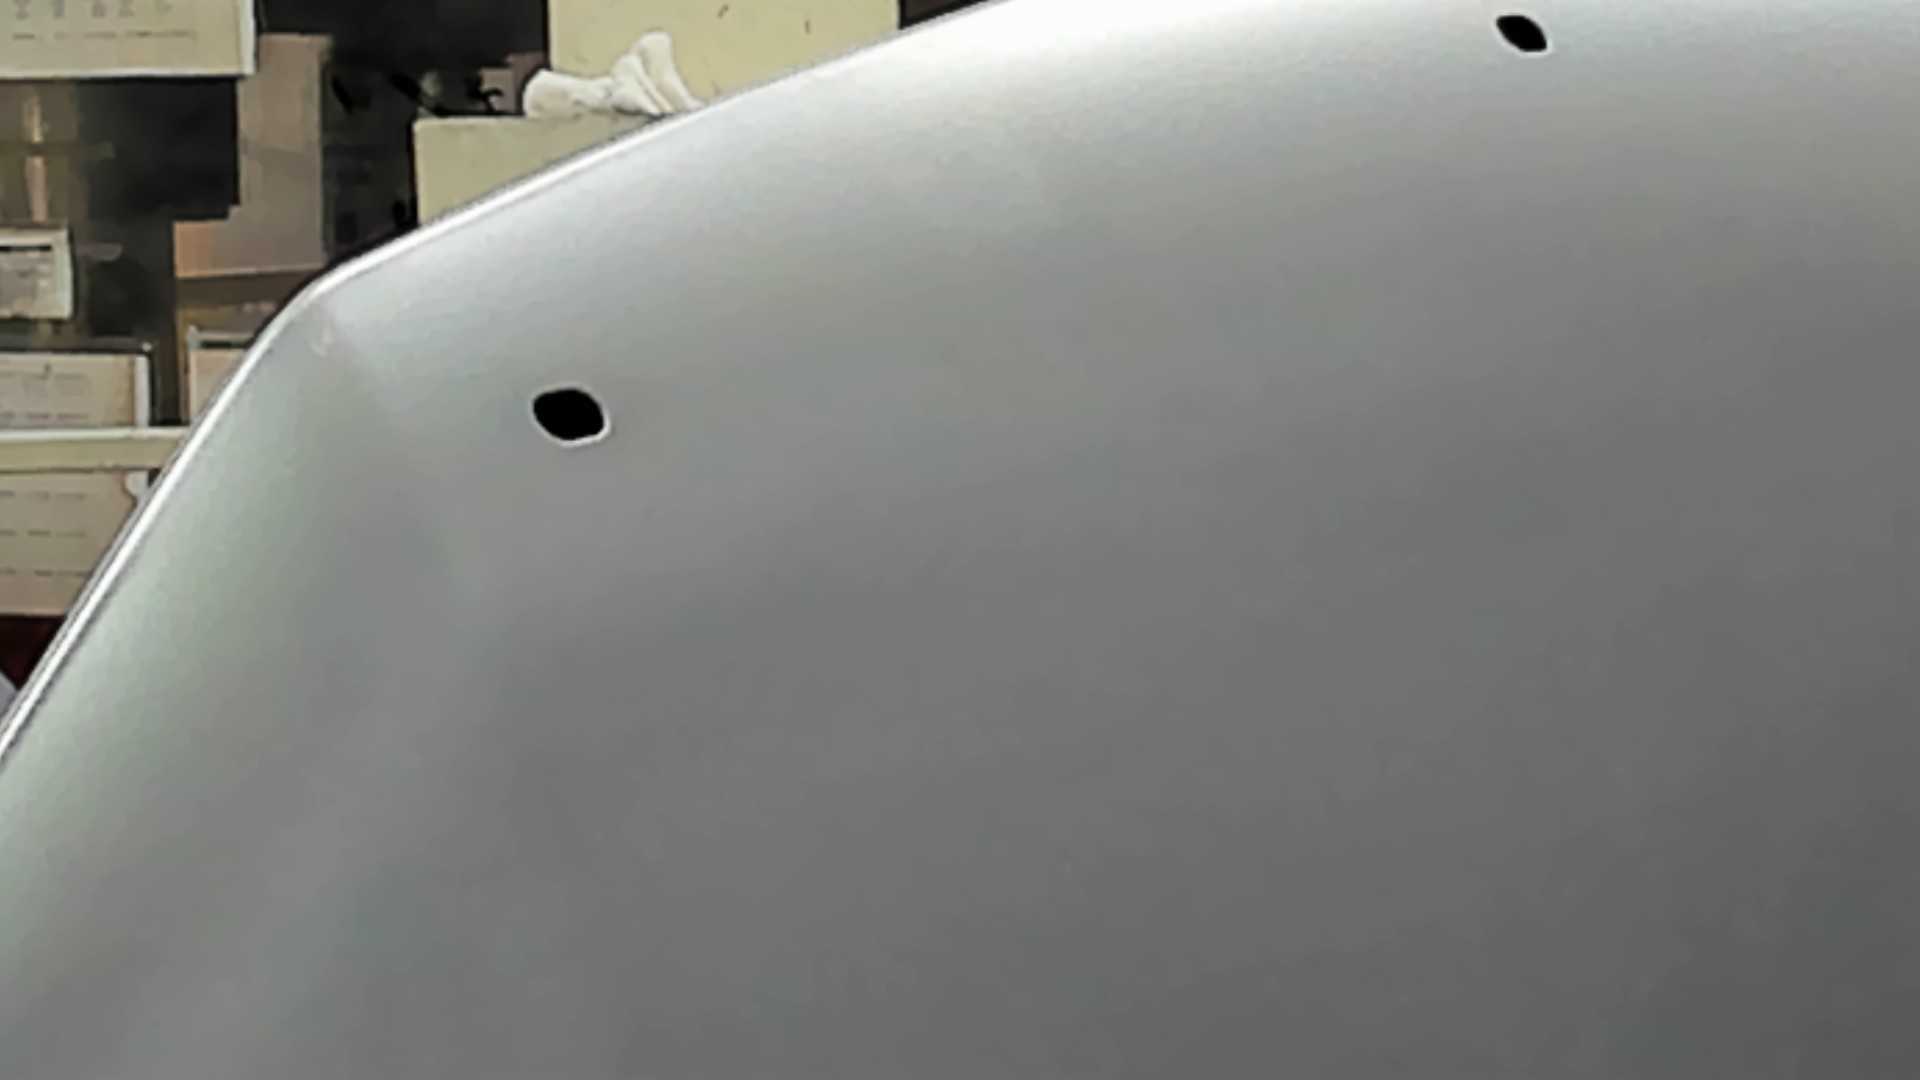amorfo: (525, 381, 615, 447), (1491, 11, 1553, 59)
